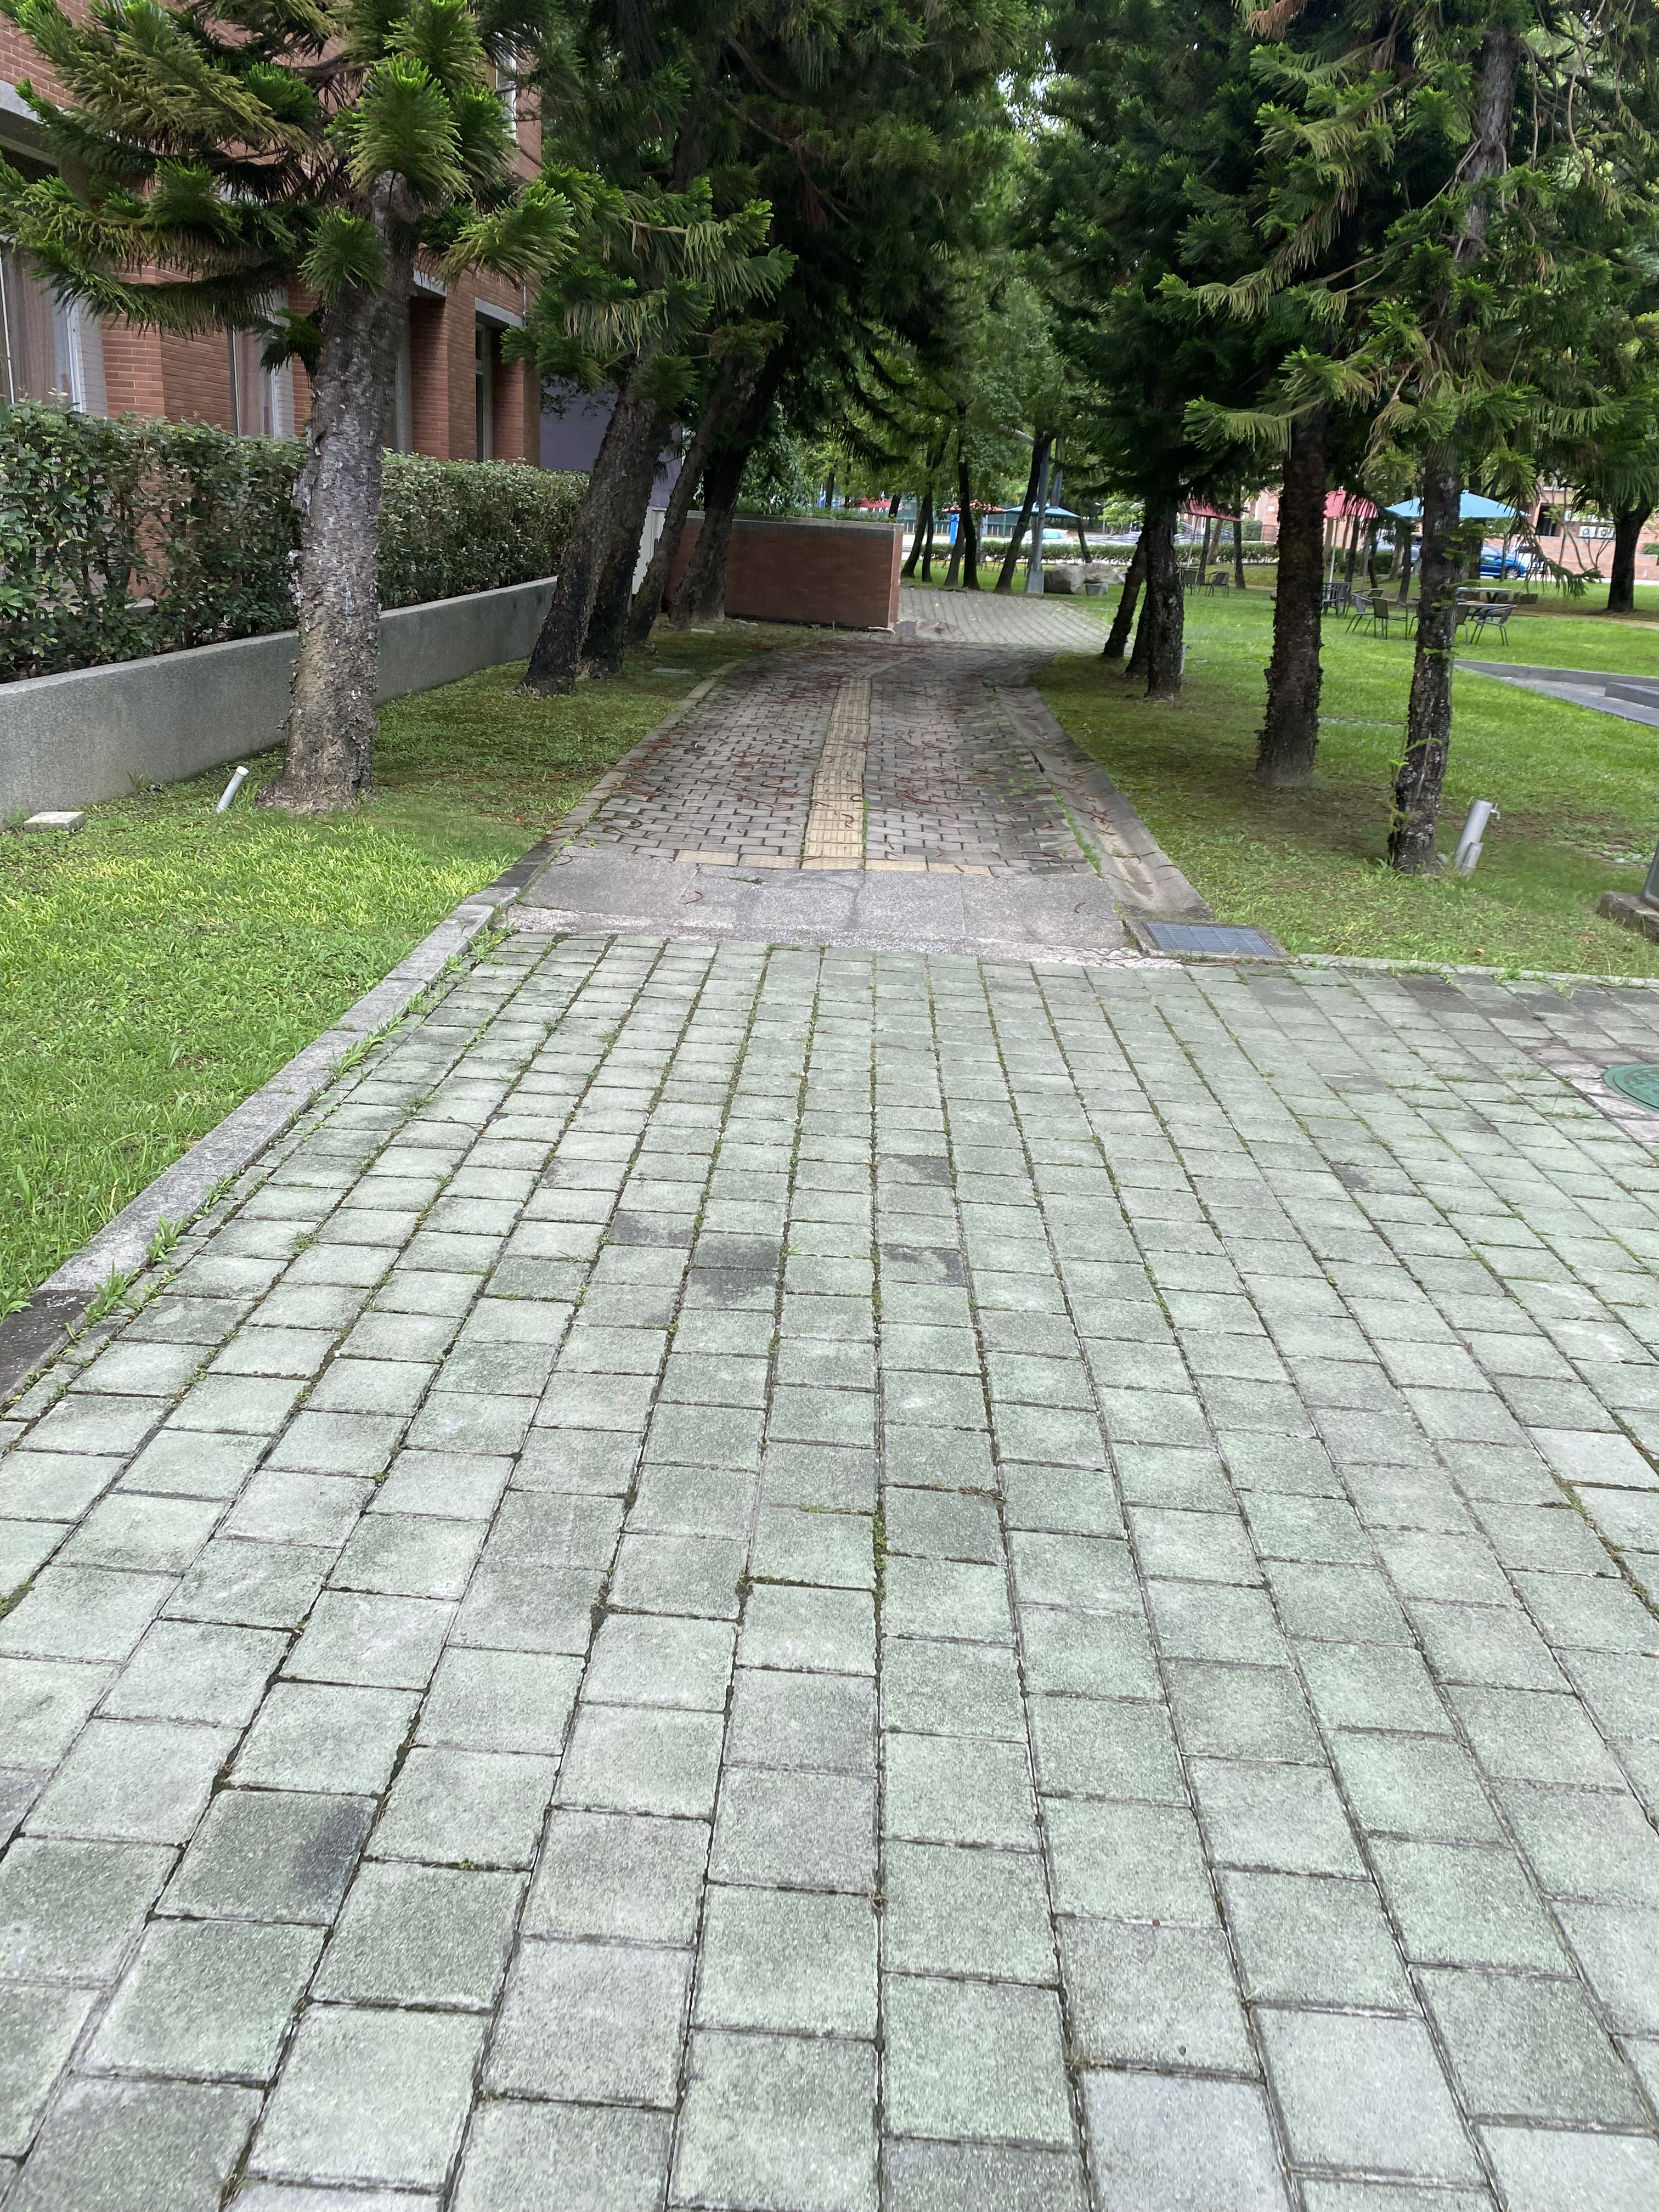sidewalk: (532, 554, 1249, 2200)
